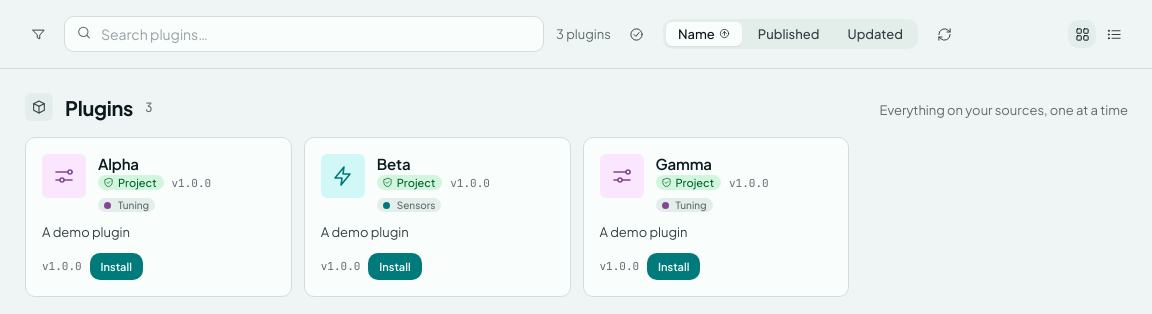
Test: PluginStore filtering › shows the full catalog, then narrows by search
Expected: the text "Alpha" is shown, [98,154,139,173]
Expected: the text "Beta" is shown, [377,154,410,173]
In the field with placeholder "Search plugins…": (304, 34) [64,16,544,52], type "Beta"
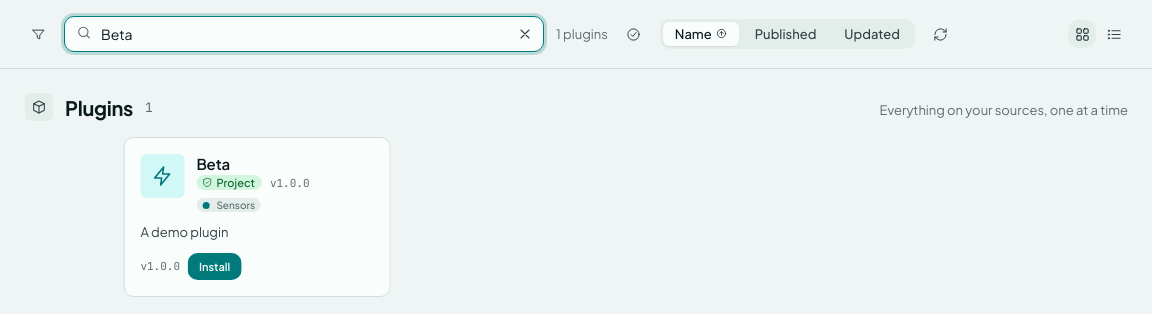
Expected: the text "Beta" is shown, [134,154,167,173]
Result: the button "Alpha" is gone
Result: the button "Gamma" is gone
